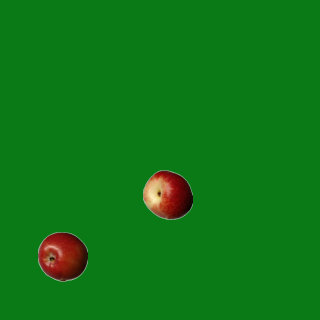Apple Braeburn: (37, 231, 87, 281)
Nectarine: (142, 169, 192, 219)
